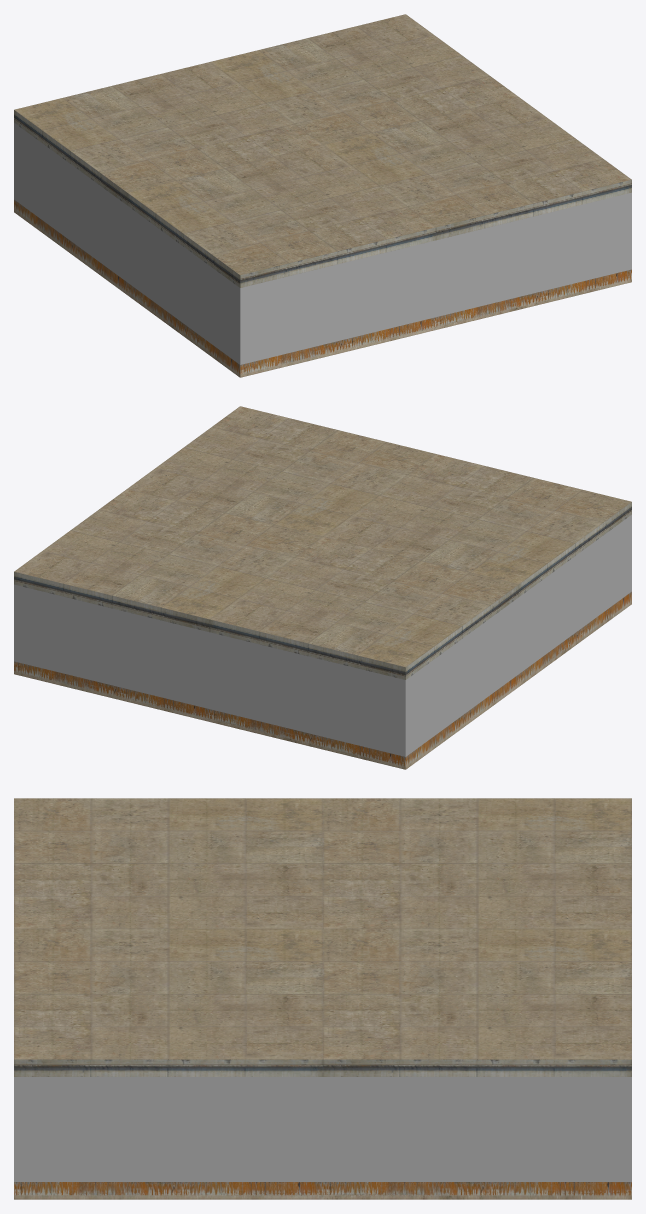
File: FactoryRoadPlatform.fbx
The picture shows the model from 3 angles, top to bottom: view 1: azimuth 30°, elevation 25°; view 2: azimuth 150°, elevation 25°; view 3: azimuth 270°, elevation 25°; orthographic projection. The views are drawn at different scales.
Parts seen in each view (by area): view 1: FactoryRoadPlatform_Lod0; view 2: FactoryRoadPlatform_Lod0; view 3: FactoryRoadPlatform_Lod0.
Boxes of the visible parts, left/top/right/bottom form: FactoryRoadPlatform_Lod0: left=14, top=14, right=631, bottom=377; FactoryRoadPlatform_Lod0: left=14, top=406, right=631, bottom=769; FactoryRoadPlatform_Lod0: left=14, top=798, right=631, bottom=1199.
Bounding box in the file's own units: 32 × 8 × 32.
